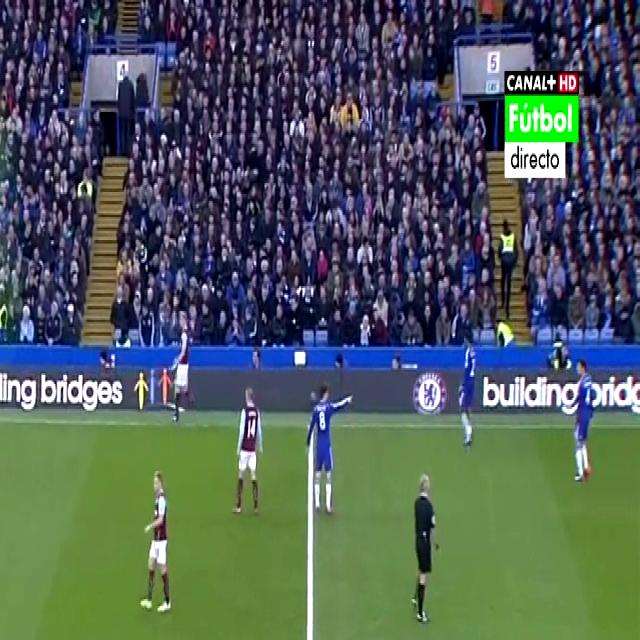referee: (401, 460, 449, 636)
soccer-player: (300, 372, 358, 514), (137, 460, 179, 626), (227, 384, 269, 530), (564, 351, 606, 490), (165, 302, 198, 433), (454, 330, 486, 452)
